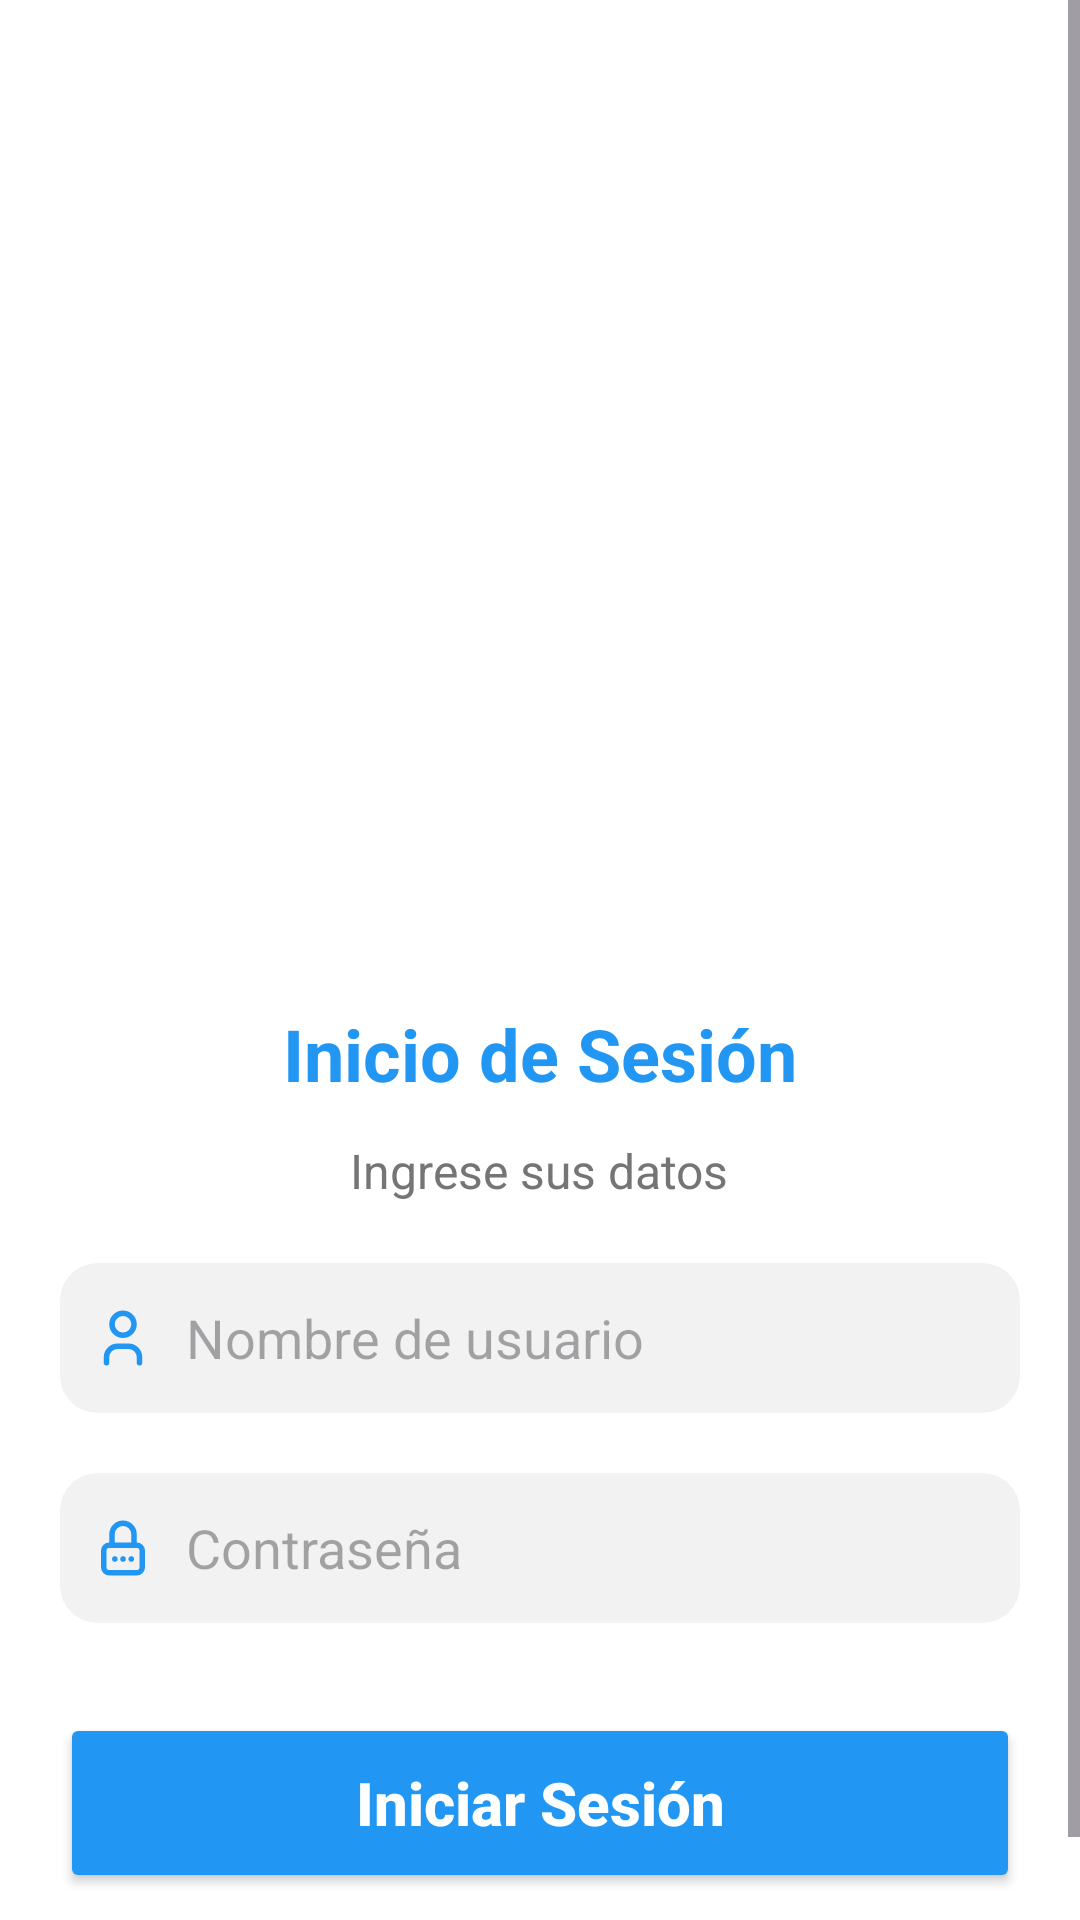

Named icons in this screenshot (1080×1920) and their bounding boxes, (left=x1, top=y1, right=x2, bottom=y2):
password: (left=101, top=1520, right=145, bottom=1576)
user: (left=103, top=1310, right=143, bottom=1366)
